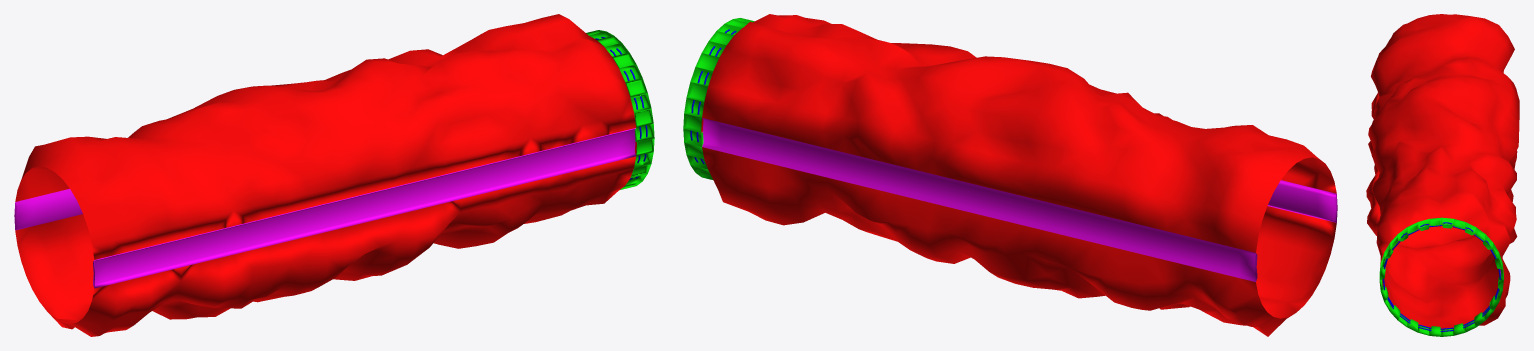
File: Intestine.obj
The picture shows the model from 3 angles, left to right: view 1: azimuth 30°, elevation 25°; view 2: azimuth 150°, elevation 25°; view 3: azimuth 270°, elevation 25°; orthographic projection. The views are drawn at different scales.
Parts seen in each view (by area): view 1: Torus.001; view 2: Torus.001; view 3: Torus.001.
Part boxes in pixels (x1=…): Torus.001: x1=14, y1=14, x2=654, y2=336; Torus.001: x1=683, y1=14, x2=1337, y2=336; Torus.001: x1=1366, y1=14, x2=1519, y2=336.
Bounding box in the file's own units: 8 × 2.68 × 2.46.
5 materials, 4 textured.
